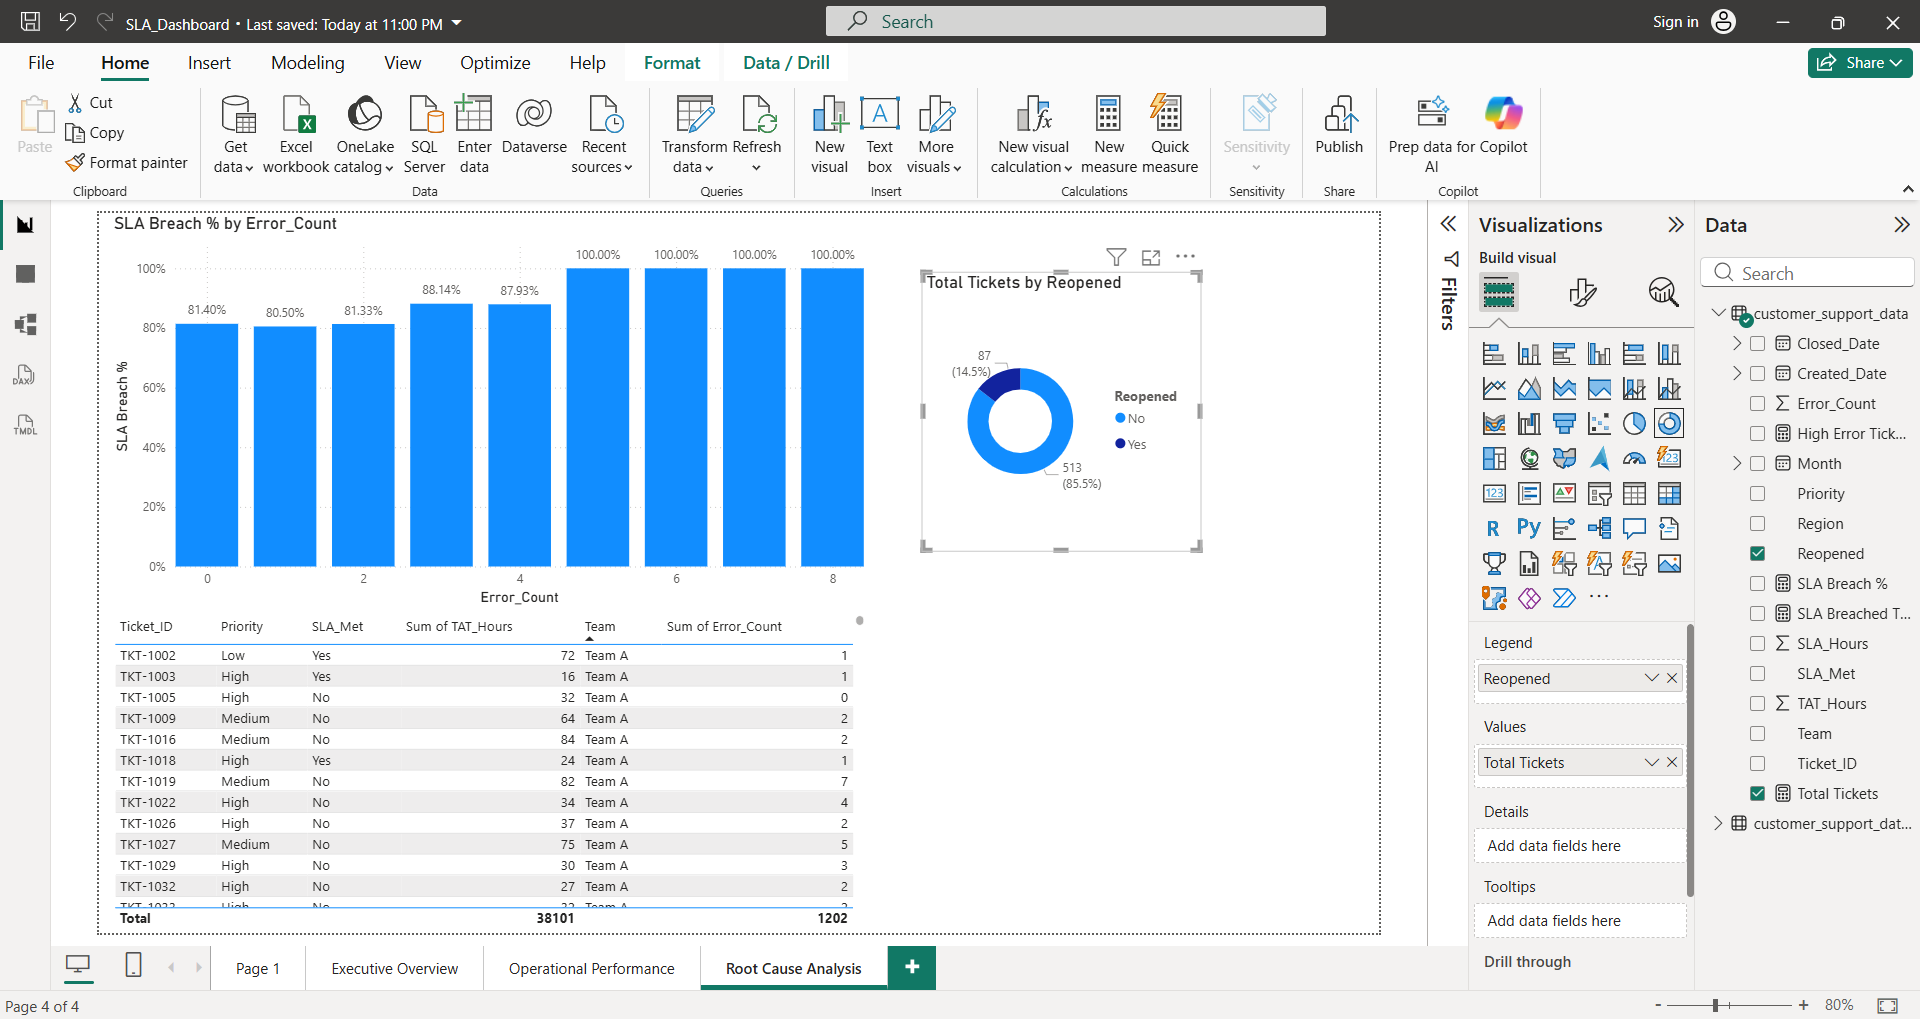

The page's visual inventory and layout, read from the dashboard file:
{"tool":"powerbi","page":{"name":"Root Cause Analysis","canvas":[1280,720],"ordinal":3},"visuals":[{"type":"clusteredColumnChart","fields":{"Category":["customer_support_data.Error_Count"],"Y":["customer_support_data.SLA Breach %"]},"box":[10,0,760,397.5],"z":0},{"type":"donutChart","fields":{"Category":["customer_support_data.Reopened"],"Y":["customer_support_data.Total Tickets"]},"box":[940,52.5,280,280],"z":1},{"type":"tableEx","fields":{"Values":["customer_support_data.Ticket_ID","customer_support_data.Priority","customer_support_data.SLA_Met","Sum(customer_support_data.TAT_Hours)","customer_support_data.Team","Sum(customer_support_data.Error_Count)"]},"box":[10,397.5,760,322.5],"z":2}]}

Visuals, with their boxes on the page's 1280x720 design canvas (x1, y1, x2, y2). These are canvas units, not pixel positions in the 1920x1019 screenshot, which may show the page scaled, cropped or inside an application window:
clusteredColumnChart - customer_support_data.Error_Count x customer_support_data.SLA Breach %: {"x1": 10, "y1": 0, "x2": 770, "y2": 398}
donutChart - customer_support_data.Reopened x customer_support_data.Total Tickets: {"x1": 940, "y1": 52, "x2": 1220, "y2": 332}
tableEx - customer_support_data.Ticket_ID x customer_support_data.Priority: {"x1": 10, "y1": 398, "x2": 770, "y2": 720}
